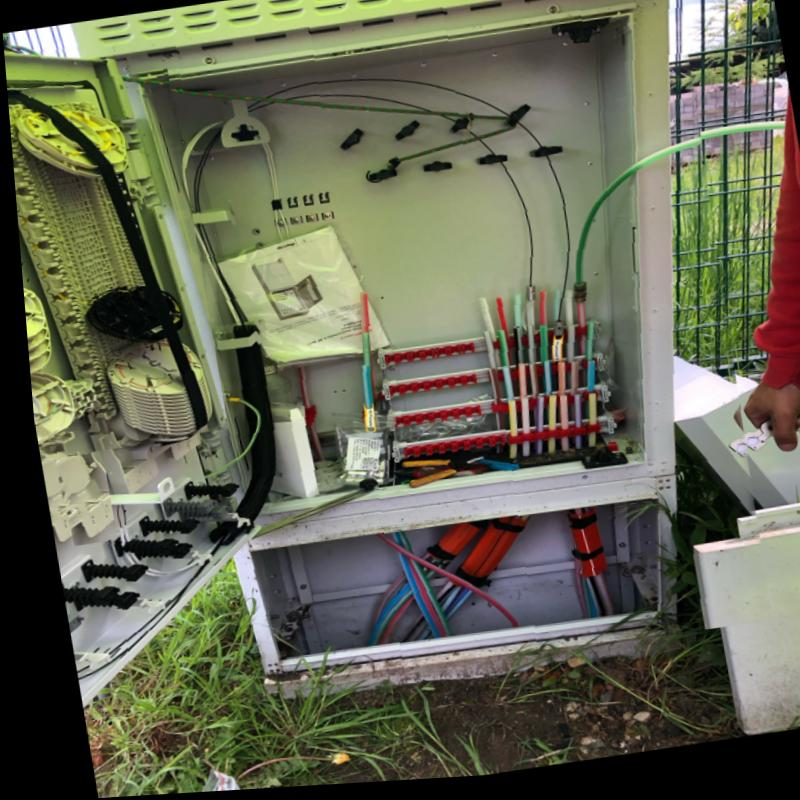NT-Gehause: (3, 0, 672, 716)
Spleiskassetten: (6, 87, 220, 438), (18, 279, 107, 547)
